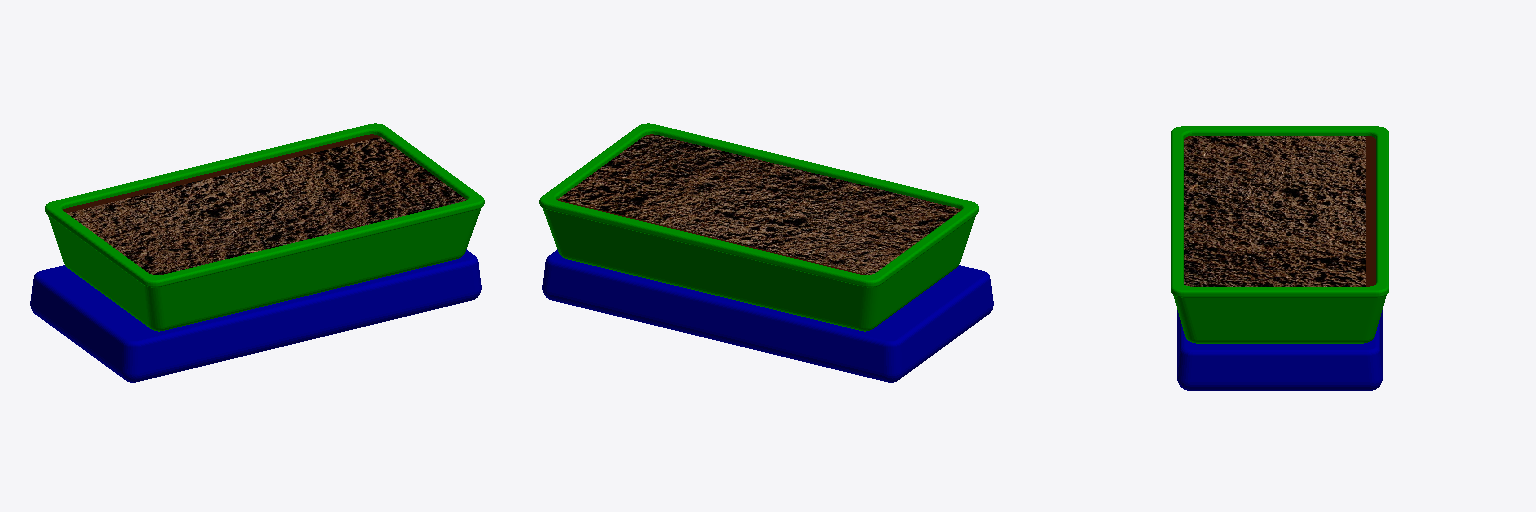
3 views of the same model, side by side, from view 1: azimuth 30°, elevation 25°; view 2: azimuth 150°, elevation 25°; view 3: azimuth 270°, elevation 25° (orthographic).
Parts seen in each view (by area): view 1: soil_layer_TurfAssembly.002, truf_top_TurfAssembly.001, truf_base_TurfAssembly; view 2: soil_layer_TurfAssembly.002, truf_top_TurfAssembly.001, truf_base_TurfAssembly; view 3: soil_layer_TurfAssembly.002, truf_top_TurfAssembly.001, truf_base_TurfAssembly.
Part boxes in pixels (left/top/right/bottom): soil_layer_TurfAssembly.002: left=63, top=134, right=466, bottom=274; truf_top_TurfAssembly.001: left=45, top=123, right=484, bottom=331; truf_base_TurfAssembly: left=30, top=249, right=481, bottom=382; soil_layer_TurfAssembly.002: left=557, top=134, right=960, bottom=274; truf_top_TurfAssembly.001: left=539, top=123, right=978, bottom=331; truf_base_TurfAssembly: left=542, top=249, right=993, bottom=382; soil_layer_TurfAssembly.002: left=1184, top=136, right=1375, bottom=286; truf_top_TurfAssembly.001: left=1171, top=126, right=1388, bottom=343; truf_base_TurfAssembly: left=1177, top=310, right=1382, bottom=390.
Size of the model in its own units: 0.7952 by 0.22 by 0.42.
Materials: 3 (1 with a texture image).